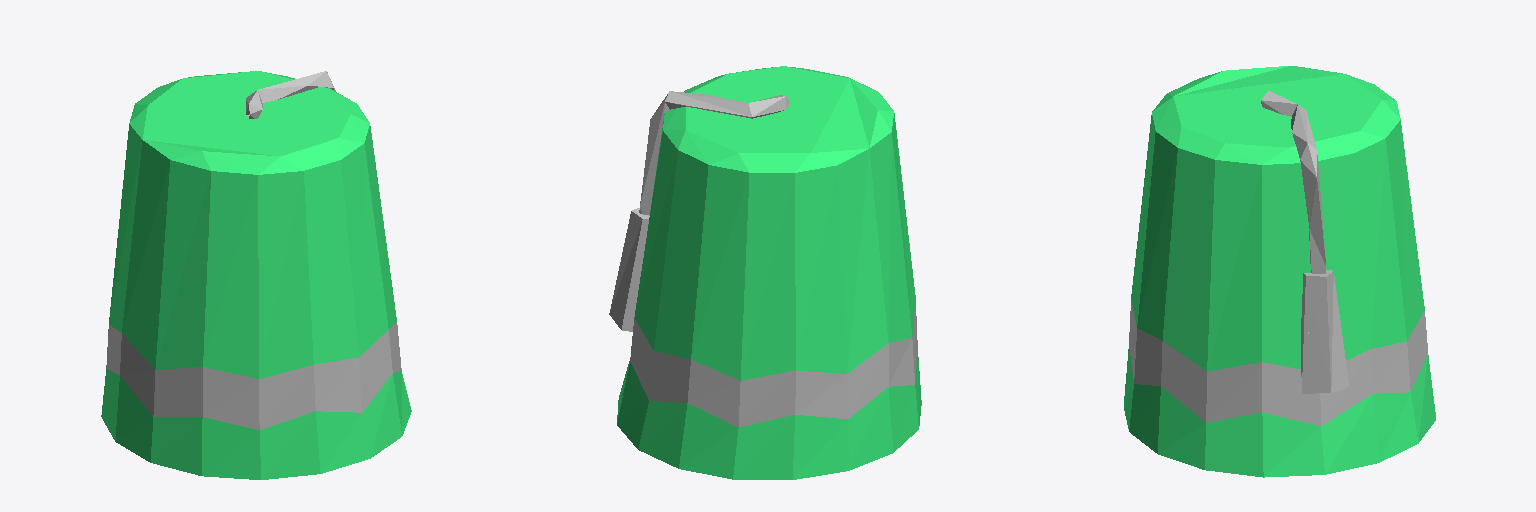
Rendered from fez_hat.obj.
3 views of the same model, side by side, from view 1: azimuth 30°, elevation 25°; view 2: azimuth 150°, elevation 25°; view 3: azimuth 270°, elevation 25° (orthographic).
Visible parts, largest first — view 1: fez_Cylinder.001; view 2: fez_Cylinder.001; view 3: fez_Cylinder.001.
Boxes of the visible parts, <box> form: fez_Cylinder.001: <box>101,71,411,479</box>; fez_Cylinder.001: <box>609,66,921,479</box>; fez_Cylinder.001: <box>1124,66,1435,477</box>.
Size of the model in its own units: 0.3998 by 0.4572 by 0.4072.